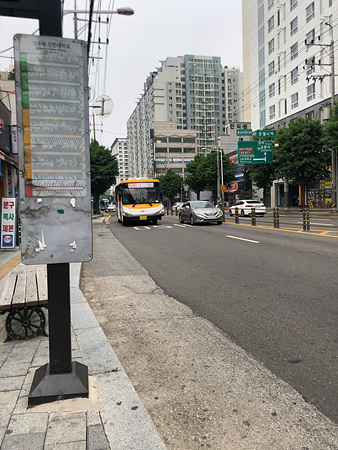bnum: (126, 183, 137, 188)
